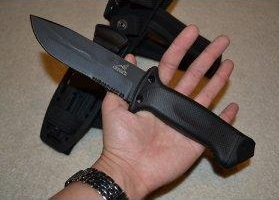knife: (26, 10, 162, 116)
